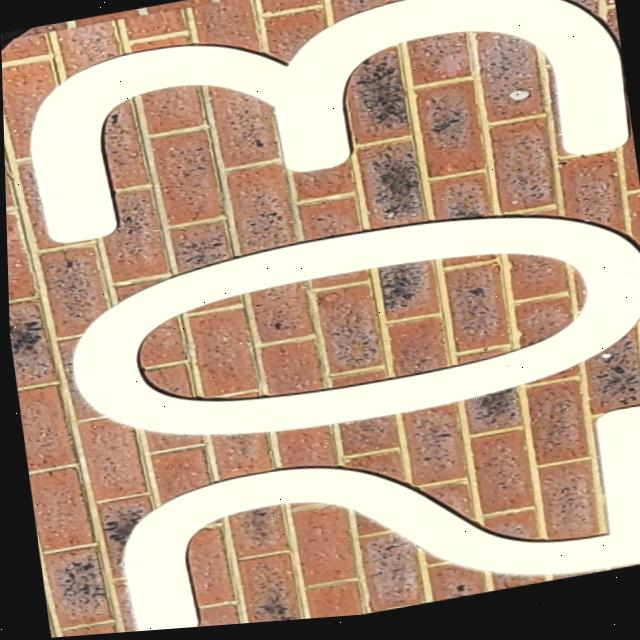character: (53, 176, 640, 473), (12, 0, 636, 256), (105, 395, 640, 633)
